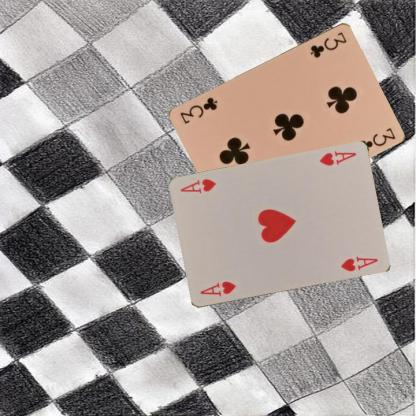3c: (308, 29, 348, 59)
Ah: (316, 148, 358, 167), (197, 279, 237, 298)
